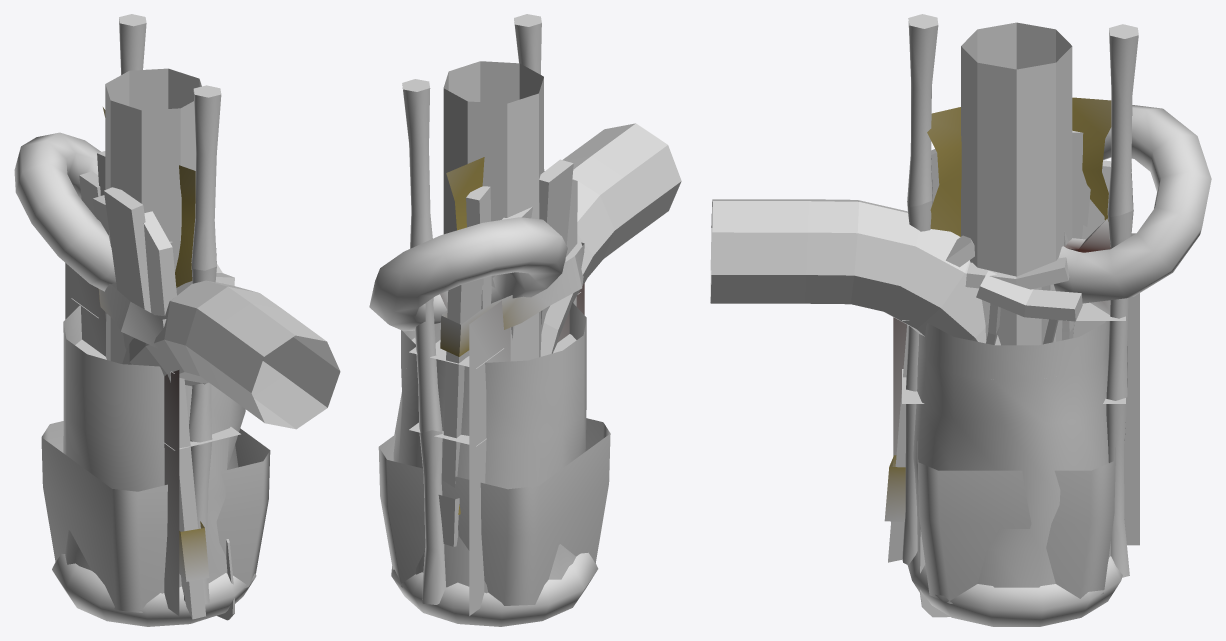
File: Items.fbx
The picture shows the model from 3 angles, left to right: view 1: azimuth 30°, elevation 25°; view 2: azimuth 150°, elevation 25°; view 3: azimuth 270°, elevation 25°; orthographic projection. The views are drawn at different scales.
Visible parts, largest first — view 1: Boat rack, Basket, Pipe Curved, Water barrel, Pipe normal, Healthy rack, Tools rack, Healt torus; view 2: Boat rack, Basket, Water barrel, Pipe normal, Healthy rack, Pipe Curved, Tools rack, Healt torus; view 3: Water barrel, Pipe normal, Healthy rack, Pipe Curved, Boat rack, Basket, Tools rack, Healt torus, Noga.
Boxes of the visible parts, left/top/right/bottom form: Boat rack: left=14, top=132, right=234, bottom=620; Basket: left=41, top=421, right=270, bottom=612; Pipe Curved: left=122, top=280, right=340, bottom=429; Water barrel: left=63, top=305, right=245, bottom=593; Pipe normal: left=105, top=68, right=201, bottom=363; Healthy rack: left=103, top=14, right=234, bottom=604; Tools rack: left=65, top=241, right=240, bottom=615; Healt torus: left=52, top=554, right=256, bottom=626; Boat rack: left=369, top=159, right=584, bottom=546; Basket: left=378, top=418, right=610, bottom=608; Water barrel: left=393, top=302, right=586, bottom=593; Pipe normal: left=443, top=61, right=543, bottom=361; Healthy rack: left=402, top=14, right=544, bottom=604; Pipe Curved: left=540, top=123, right=681, bottom=356; Tools rack: left=409, top=282, right=584, bottom=615; Healt torus: left=391, top=552, right=598, bottom=626; Water barrel: left=913, top=321, right=1110, bottom=587; Pipe normal: left=961, top=22, right=1072, bottom=345; Healthy rack: left=902, top=14, right=1138, bottom=577; Pipe Curved: left=710, top=199, right=1000, bottom=345; Boat rack: left=884, top=105, right=1211, bottom=617; Basket: left=917, top=441, right=1115, bottom=603; Tools rack: left=893, top=218, right=1139, bottom=545; Healt torus: left=907, top=551, right=1122, bottom=626; Noga: left=965, top=257, right=1069, bottom=344.
Size of the model in its own units: 71.73 by 210 by 160.
